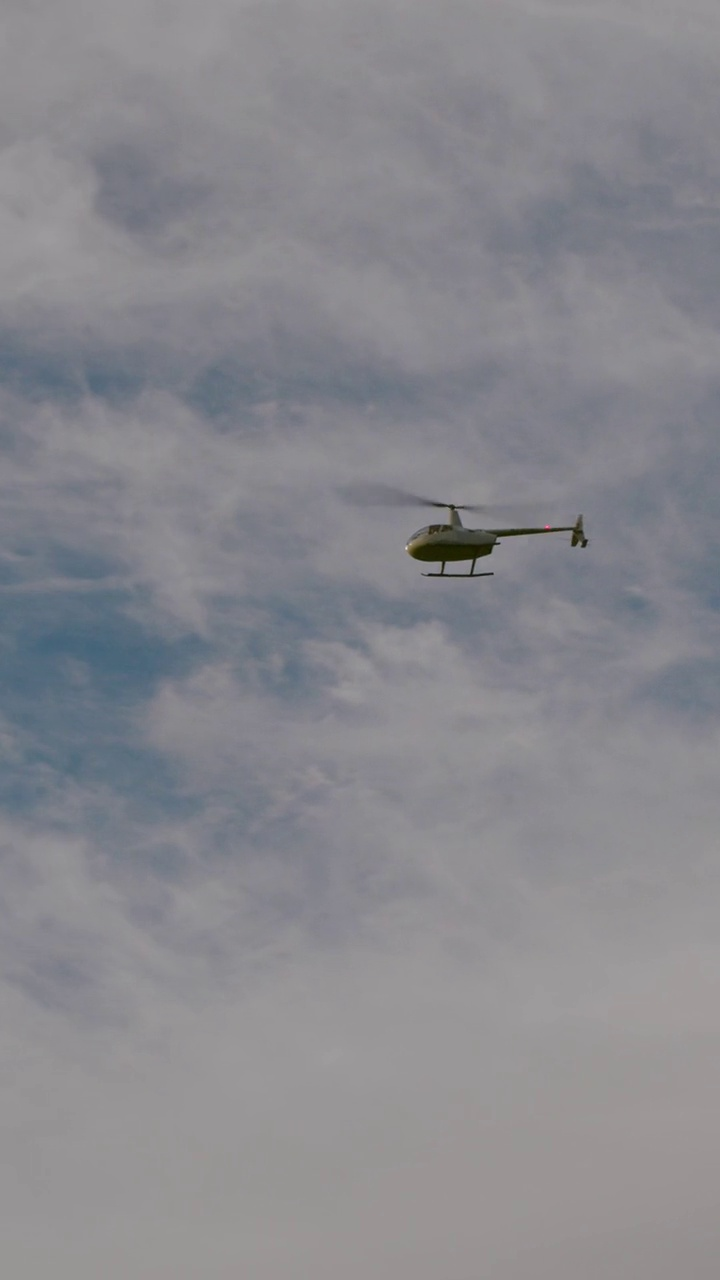heli: (343, 480, 590, 581)
